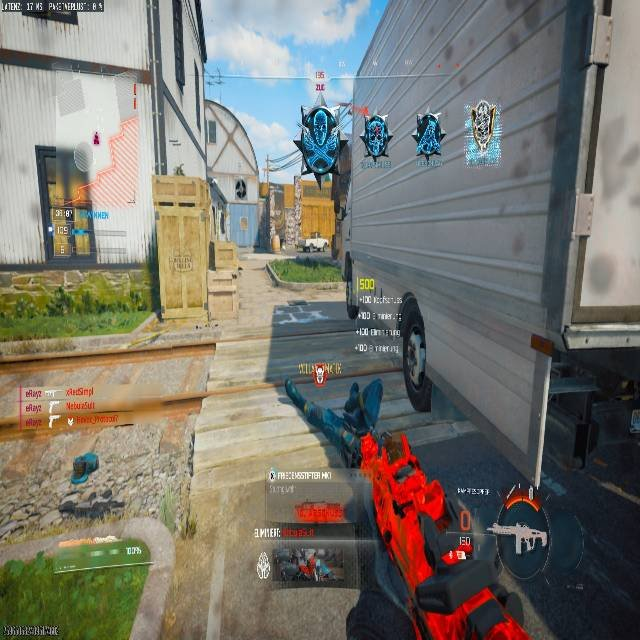player: (413, 110, 444, 163)
